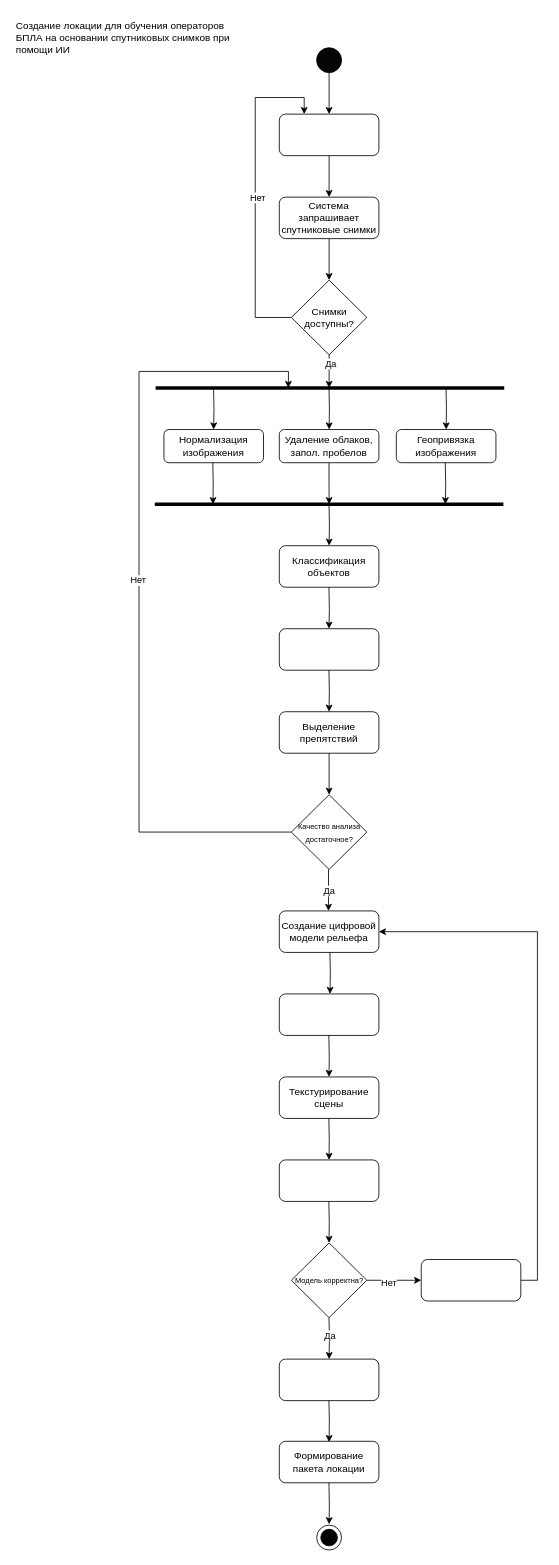
This 559x1565 diagram has some shape labels left out. The shapes that lost their labels are listed below. From the top down, each one's centre as x and y in pixels, then its label:
At (x=328, y=134): "Оператор выбирает область интереса".
At (x=328, y=649): "Сегментация рельефа".
At (x=328, y=1014): "Генерация 3D объектов".
At (x=328, y=1180): "Оптимизация моделей".
At (x=470, y=1280): "Ручная корректировка".
At (x=328, y=1379): "Экспорт 3D сцены в формат симулятора".
